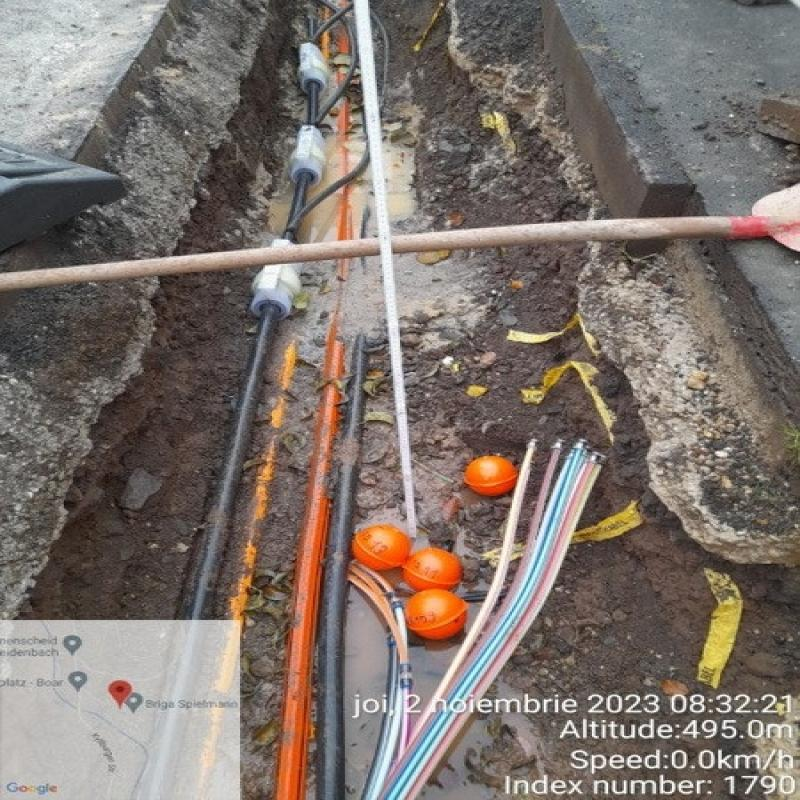Kugelmarker: (406, 589, 472, 642), (351, 525, 413, 568), (400, 549, 464, 589), (465, 455, 518, 498)
Orang-Speednetrohrchen: (274, 337, 350, 800)
